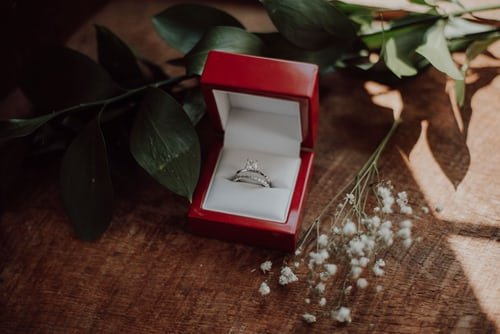ring: (218, 133, 285, 201)
